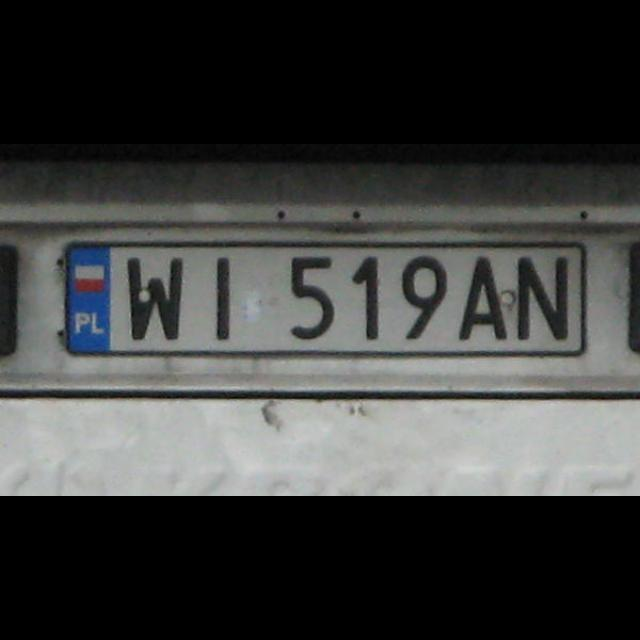license-plates: (67, 245, 586, 354)
